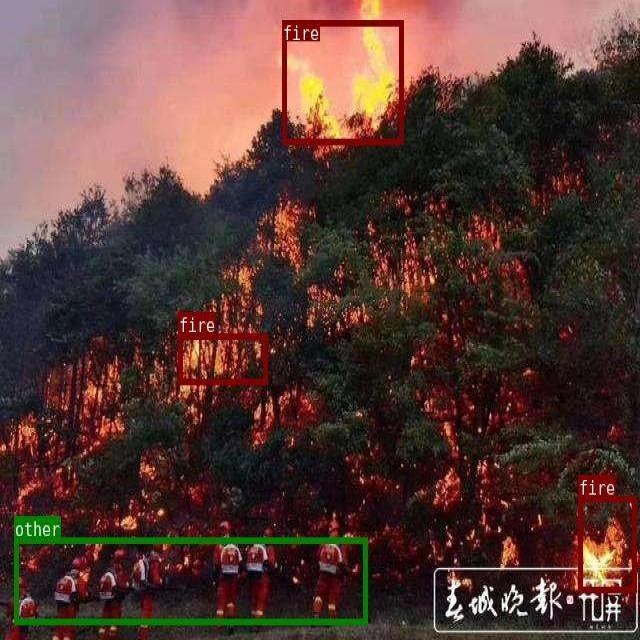fire: (282, 19, 403, 144), (577, 496, 636, 591), (178, 333, 266, 383)
